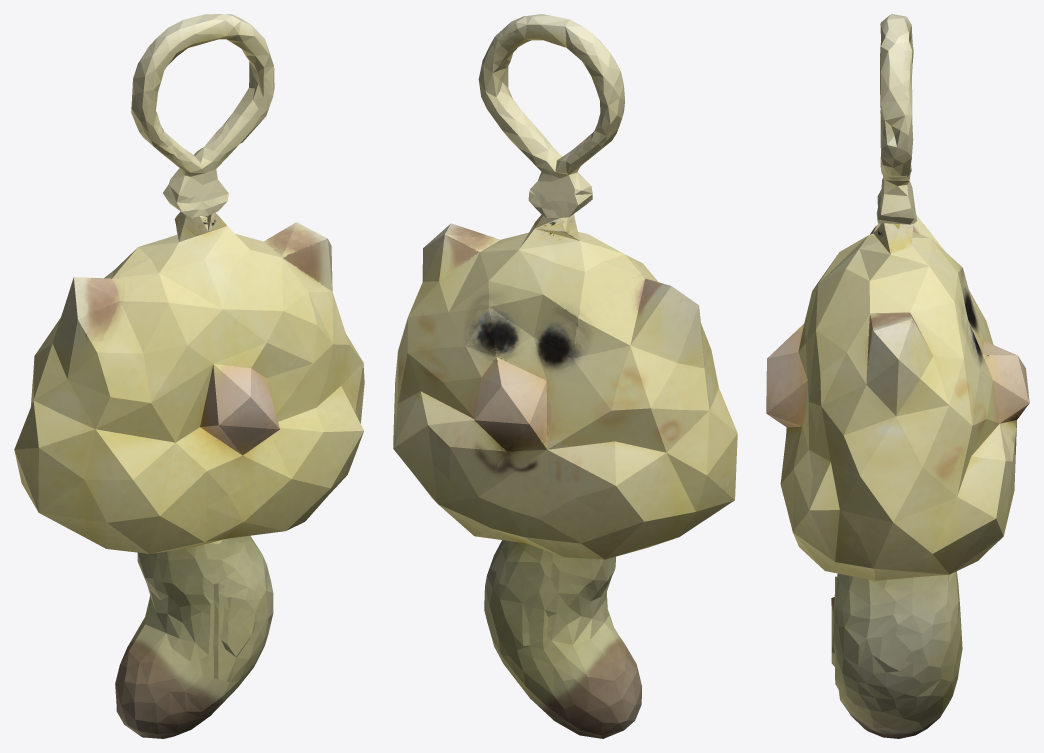
3 renders of one model, left to right at view 1: azimuth 30°, elevation 25°; view 2: azimuth 150°, elevation 25°; view 3: azimuth 270°, elevation 25°, orthographic. The views are drawn at different scales.
Visible parts, largest first — view 1: visual_mesh; view 2: visual_mesh; view 3: visual_mesh.
Part boxes in pixels (x1=…): visual_mesh: x1=14, y1=14, x2=364, y2=738; visual_mesh: x1=393, y1=14, x2=737, y2=738; visual_mesh: x1=766, y1=14, x2=1029, y2=738.
Size of the model in its own units: 0.1099 by 0.2207 by 0.0726.
1 material, 1 textured.
